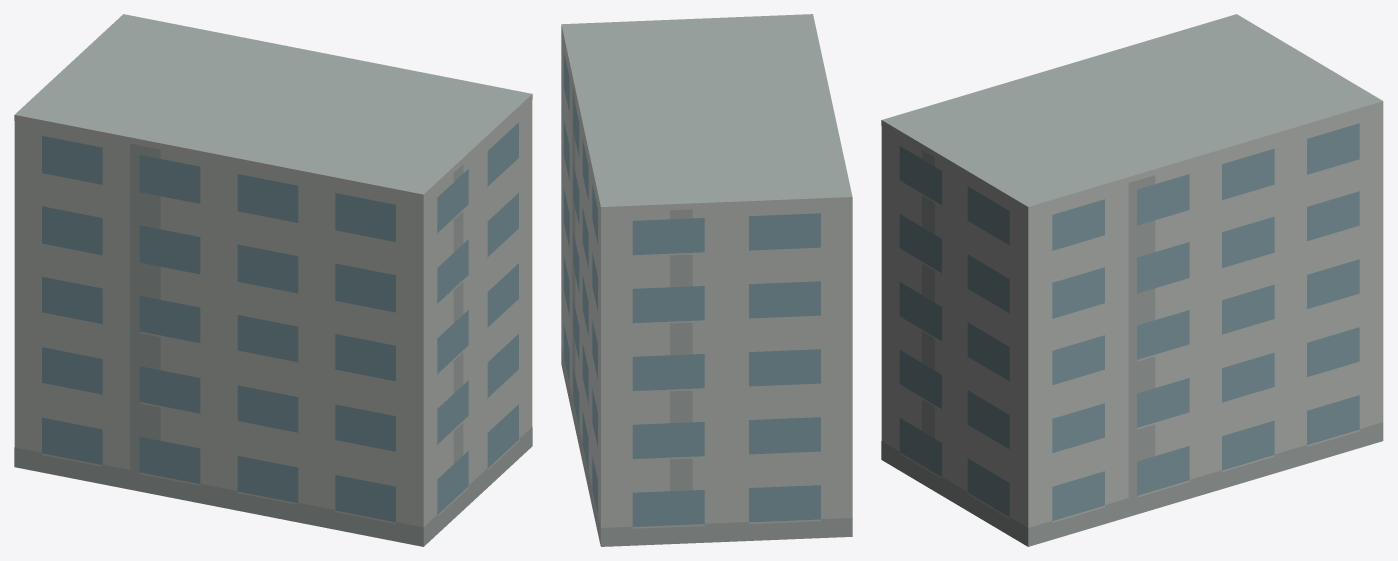
The model's file is survey-upis-32747587.glb.
3 renders of one model, left to right at view 1: azimuth 30°, elevation 25°; view 2: azimuth 150°, elevation 25°; view 3: azimuth 270°, elevation 25°, orthographic. The views are drawn at different scales.
Visible parts, largest first — view 1: survey-upis-32747587.tmp; view 2: survey-upis-32747587.tmp; view 3: survey-upis-32747587.tmp.
Boxes of the visible parts, x1=… form: survey-upis-32747587.tmp: x1=14, y1=14, x2=532, y2=546; survey-upis-32747587.tmp: x1=561, y1=14, x2=852, y2=546; survey-upis-32747587.tmp: x1=881, y1=14, x2=1383, y2=546.
Size of the model in its own units: 16.87 by 13.85 by 18.54.
